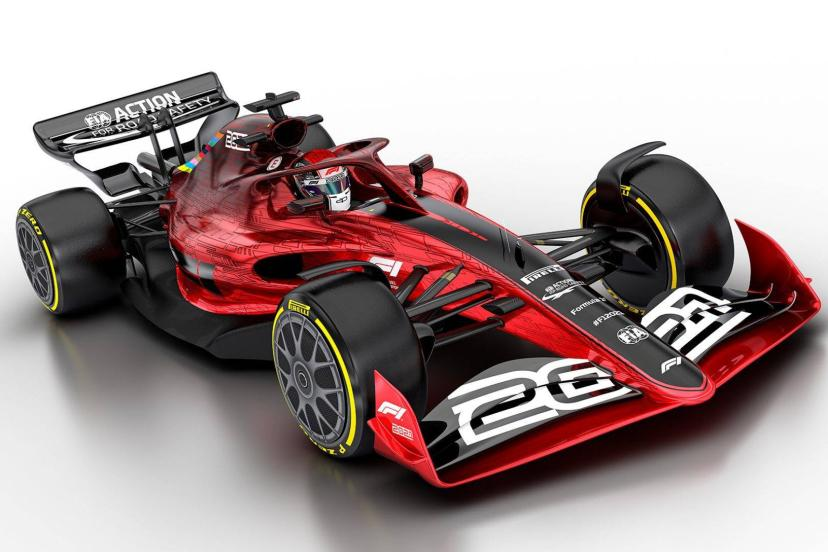Formule 1: (17, 72, 819, 485)
